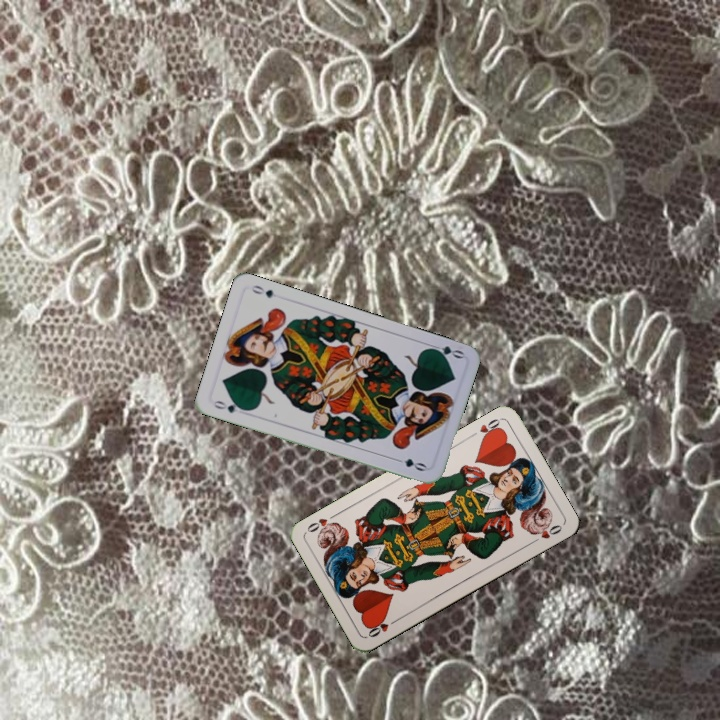GO: (425, 340, 466, 361), (210, 396, 249, 416)
HO: (466, 414, 504, 442), (364, 614, 401, 640)
